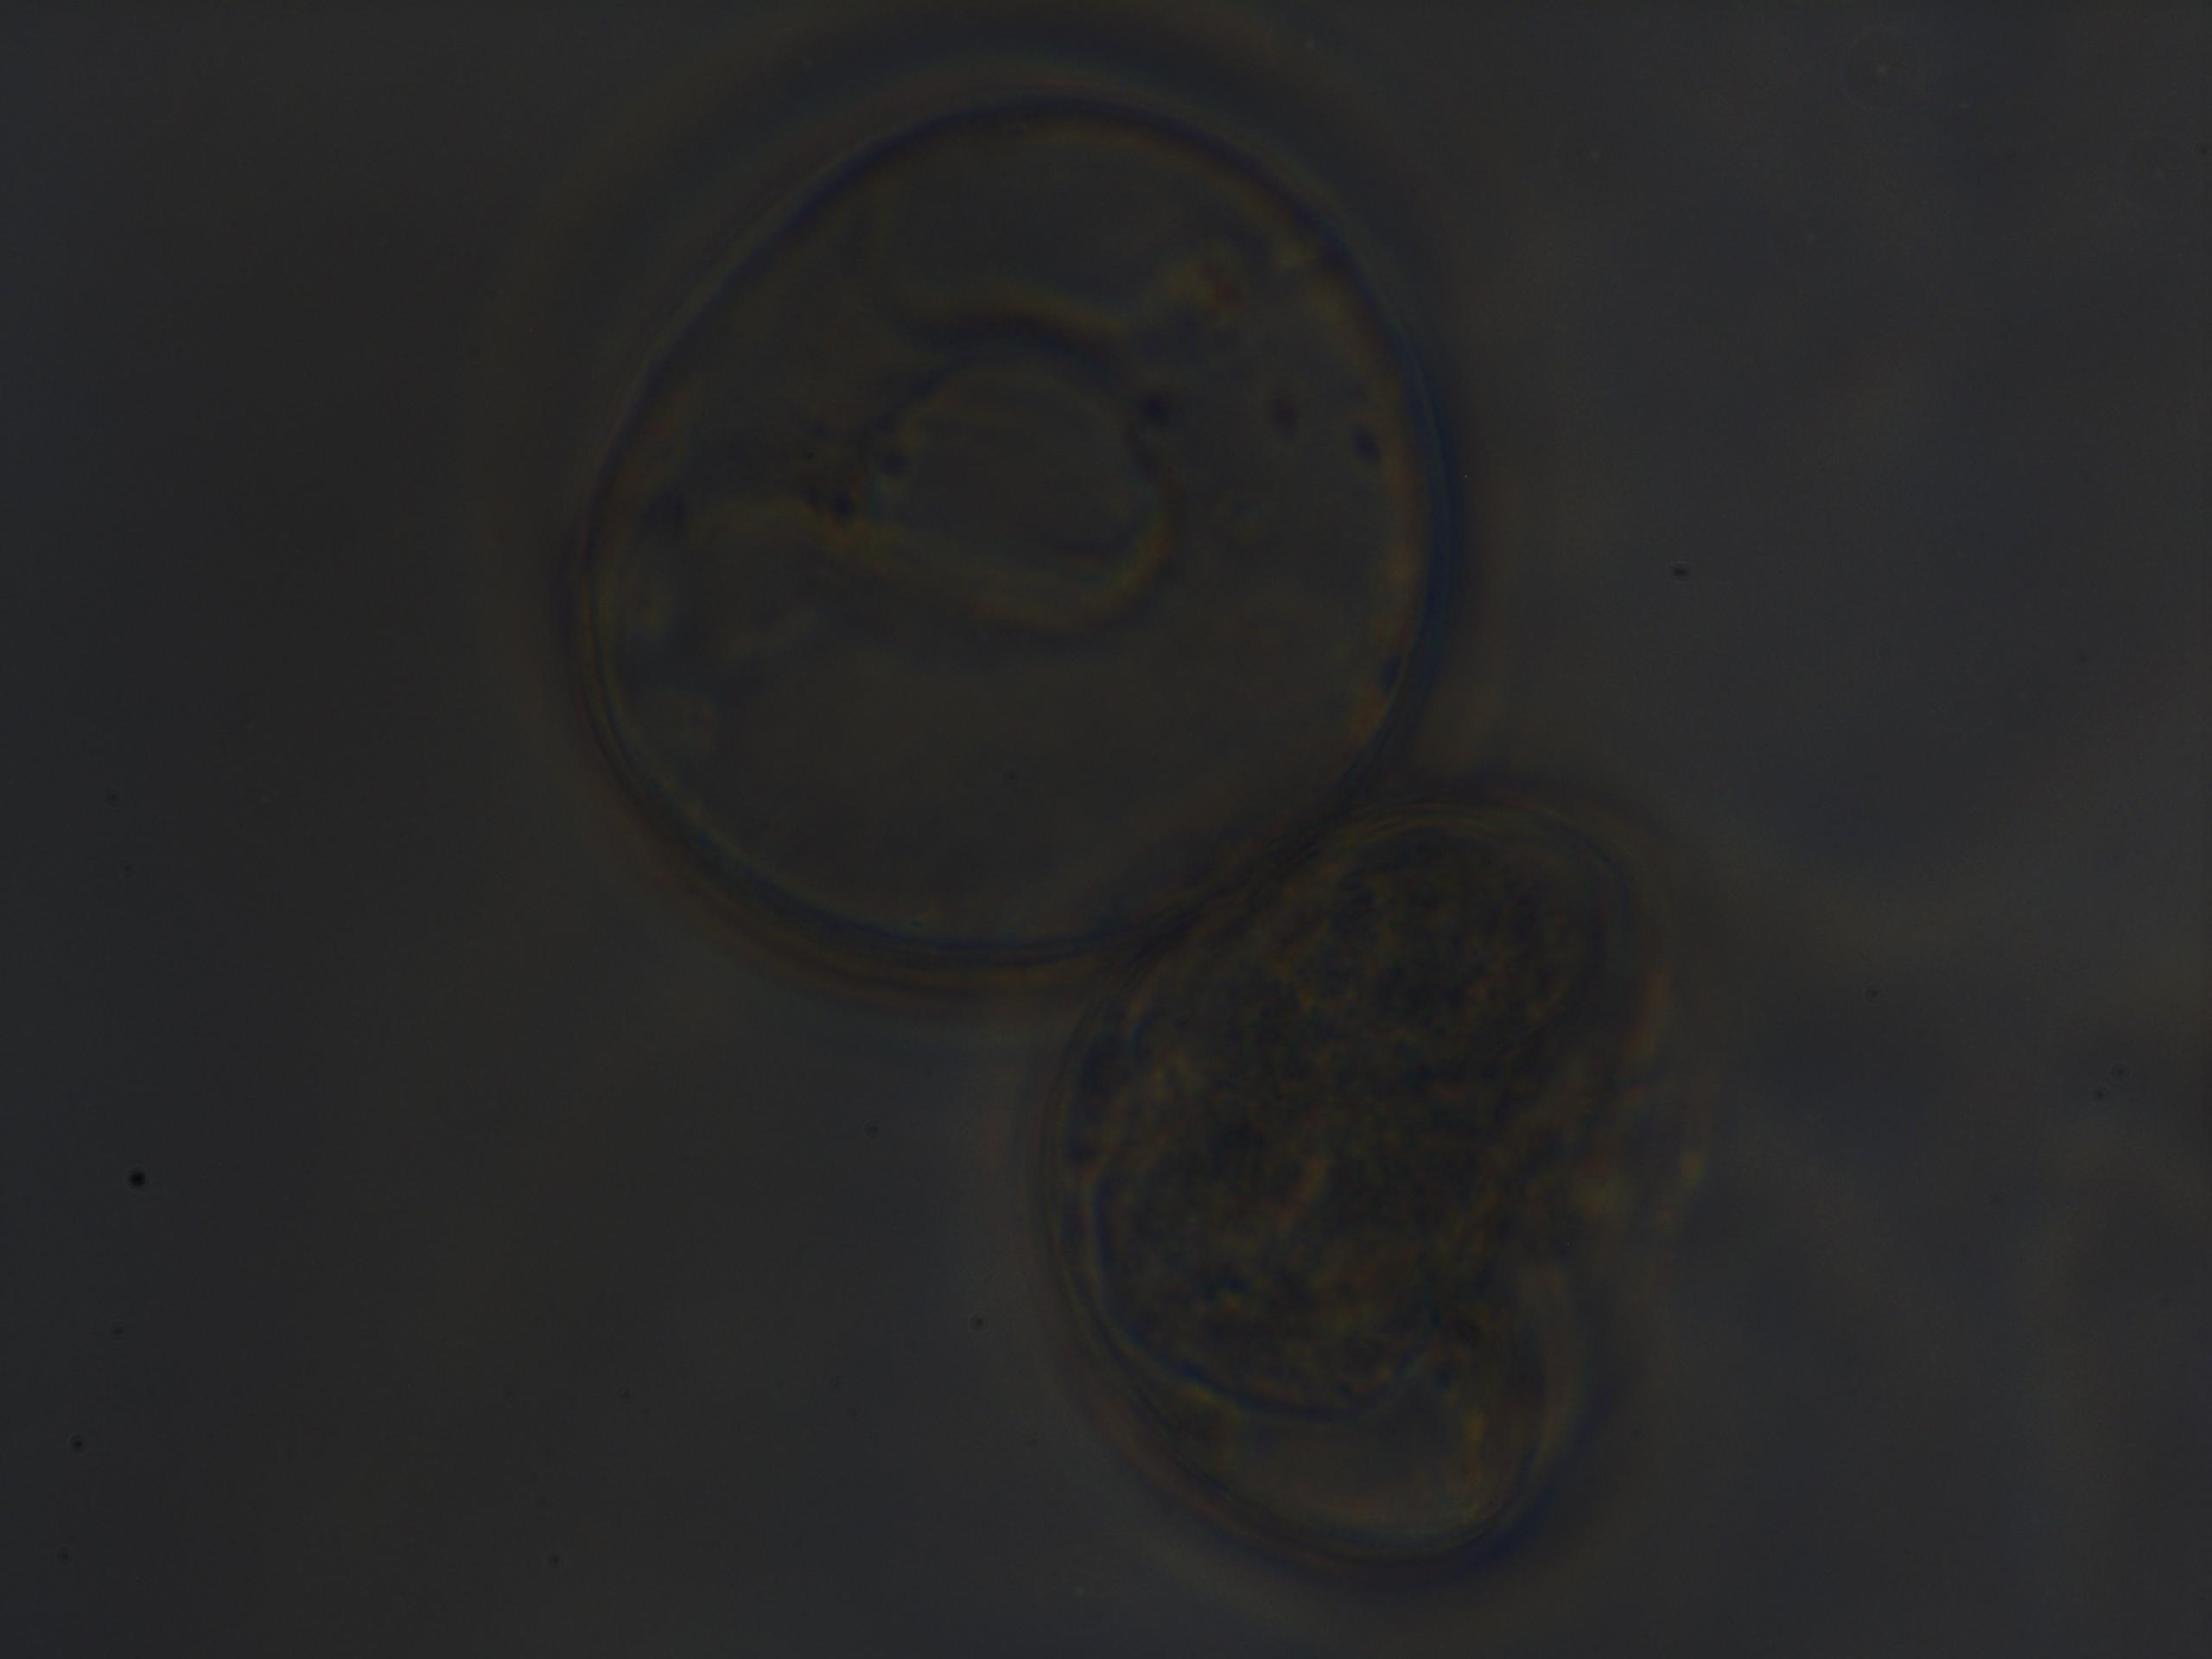protozoa: (486, 17, 1533, 1046), (1015, 746, 1766, 1629)
